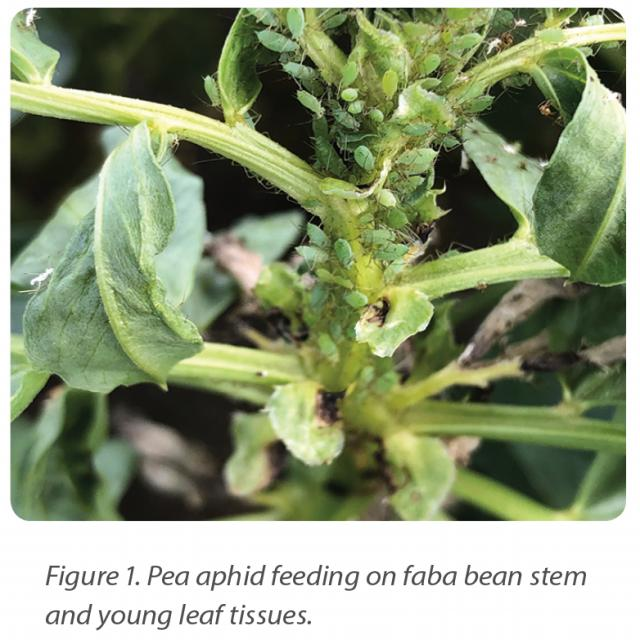Aphid-Grouped-: (258, 12, 482, 347)
